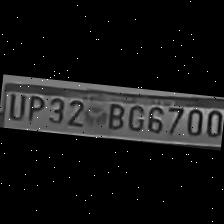0: (182, 105, 206, 136), (202, 106, 222, 137)
2: (64, 95, 89, 127)
3: (44, 92, 66, 124)
6: (142, 102, 164, 134)
7: (164, 102, 183, 135)
B: (101, 98, 126, 130)
G: (125, 100, 145, 131)
P: (24, 91, 46, 123)
U: (3, 88, 25, 120)
